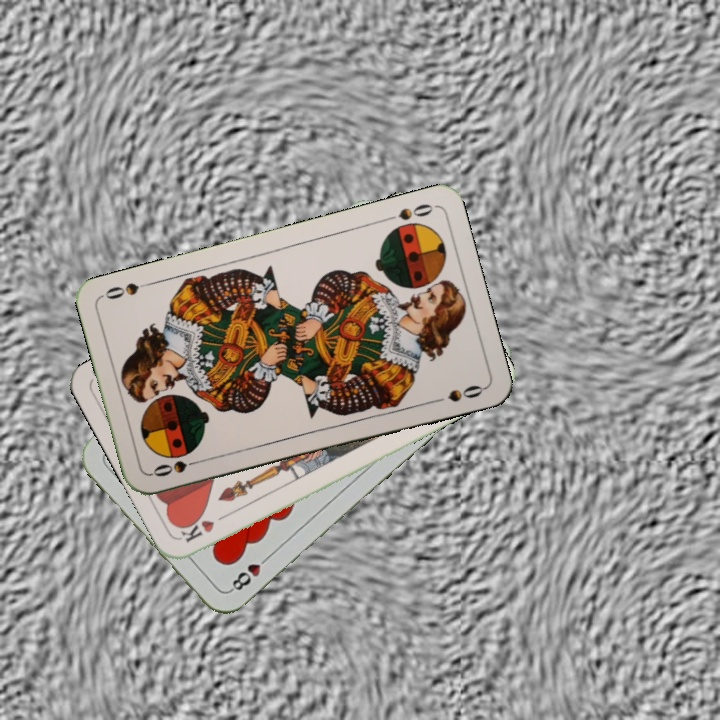H8: (225, 550, 274, 595)
HK: (178, 507, 234, 546)
SO: (379, 199, 436, 225), (148, 455, 206, 480)
